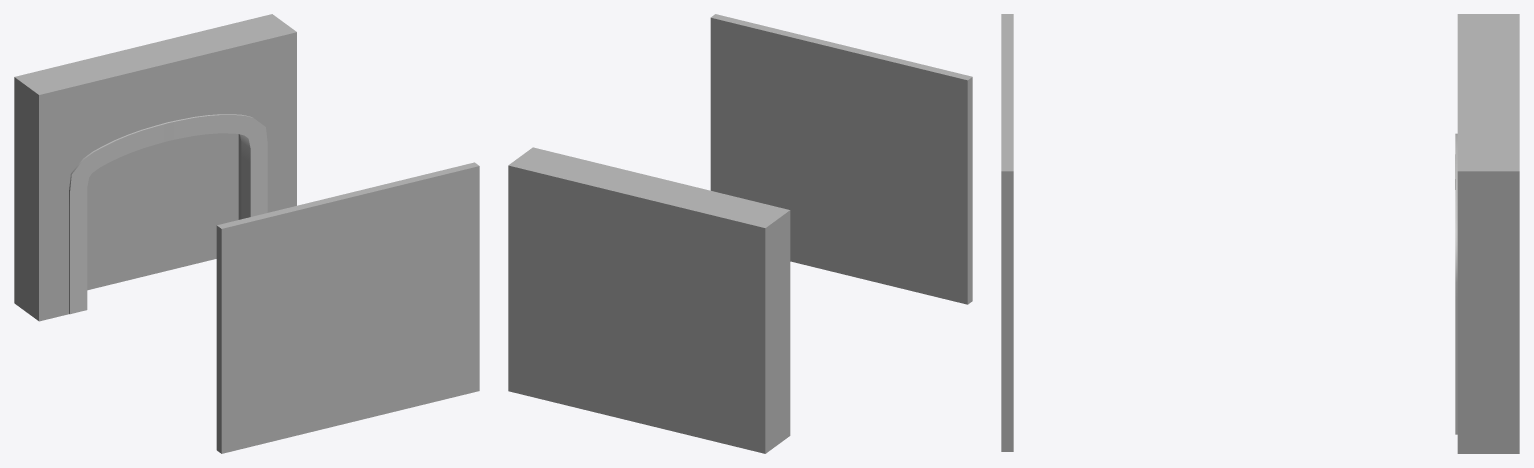
File: walls.fbx
3 renders of one model, left to right at view 1: azimuth 30°, elevation 25°; view 2: azimuth 150°, elevation 25°; view 3: azimuth 270°, elevation 25°, orthographic. The views are drawn at different scales.
Visible parts, largest first — view 1: wall3, wall, stone_arc; view 2: wall, wall3; view 3: wall, wall3, stone_arc.
Part boxes in pixels (x1,y1,x2,y2): wall3: (216,162,479,453); wall: (14,14,296,321); stone_arc: (69,114,267,314); wall: (508,147,790,453); wall3: (710,14,972,304); wall: (1457,14,1519,453); wall3: (1001,14,1013,451); stone_arc: (1455,133,1457,434).
Bounding box in the file's own units: 300 × 252 × 418.
